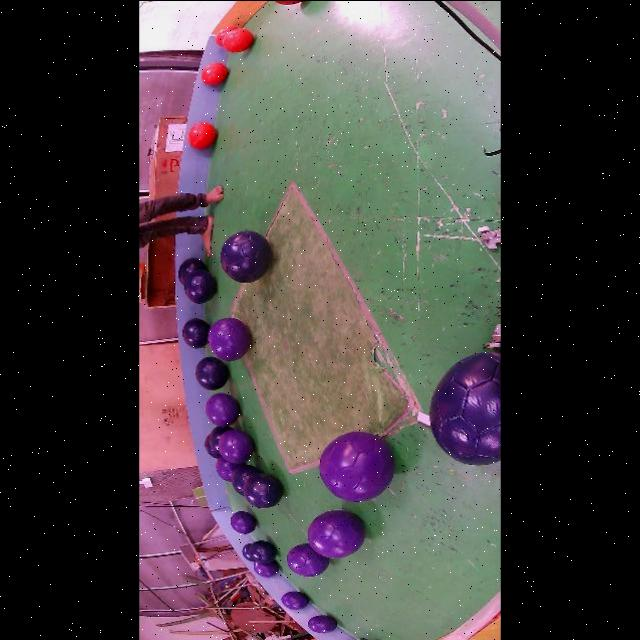B: (431, 352, 502, 464), (221, 230, 273, 283), (244, 472, 284, 508), (196, 355, 229, 389), (185, 269, 217, 303), (231, 464, 262, 495), (182, 318, 210, 348), (178, 257, 207, 284), (209, 426, 233, 451), (250, 539, 276, 562), (205, 435, 221, 457), (243, 542, 256, 562)
P: (319, 431, 395, 501), (308, 509, 366, 557), (209, 316, 251, 361), (287, 543, 329, 576), (219, 428, 255, 462), (206, 392, 240, 426), (216, 456, 243, 481), (230, 510, 256, 533), (308, 615, 337, 632), (282, 591, 309, 608), (254, 561, 279, 577)
R: (222, 27, 254, 51), (188, 122, 216, 148), (201, 61, 229, 84), (216, 26, 236, 45), (276, 0, 304, 3)
